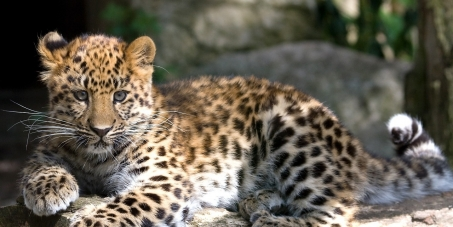amur_leopard: (13, 21, 438, 227)
